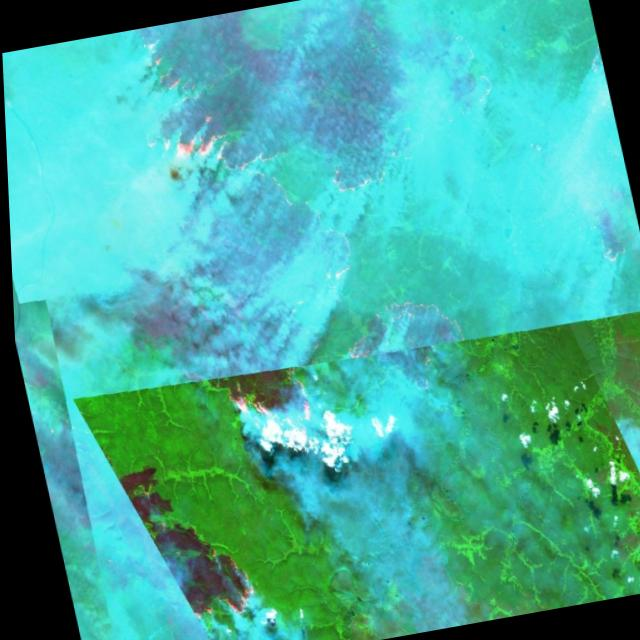fire: (109, 12, 260, 193), (330, 290, 477, 406), (216, 363, 319, 460), (172, 544, 255, 630), (580, 194, 626, 268)
